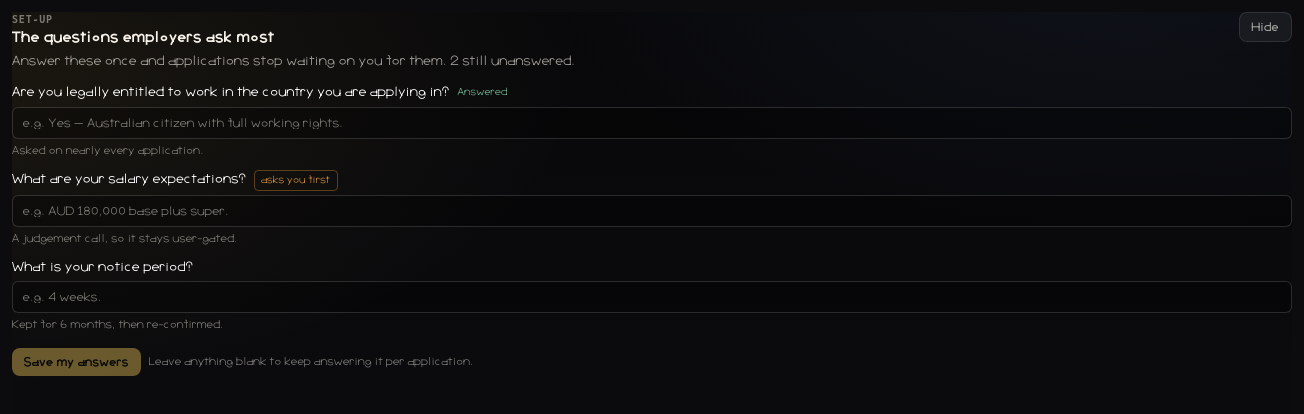
Scenario: ScreeningQuestionnaire › reports the server's own words after saving
Type "4 weeks" into the field with test id "seed-input-notice_period" at (652, 297), box [12,281,1292,313]
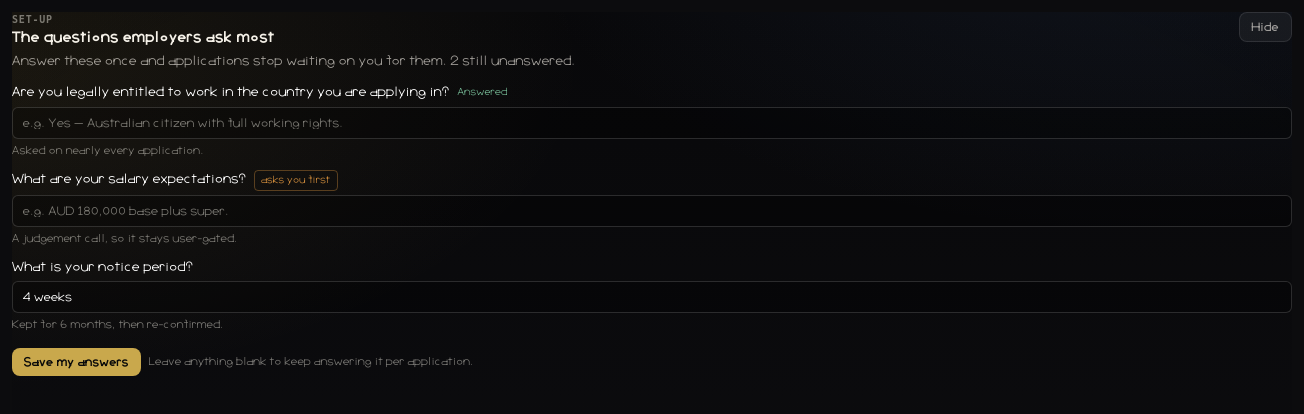
Click the button with test id "bank-questionnaire-save" at (76, 362), box [12,348,141,376]
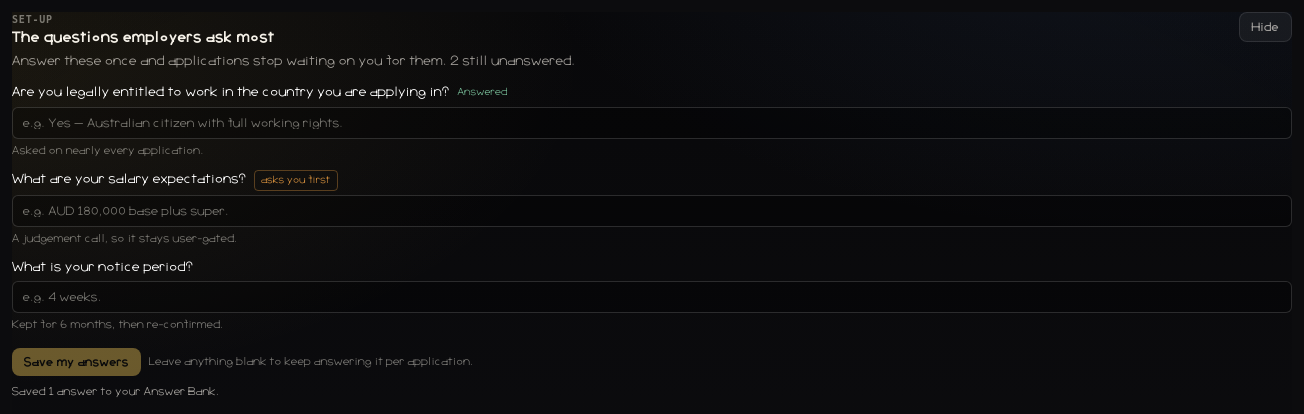
Result: the text with test id "bank-questionnaire-result" shows "Saved 1 answer" at [12,386,220,397]
